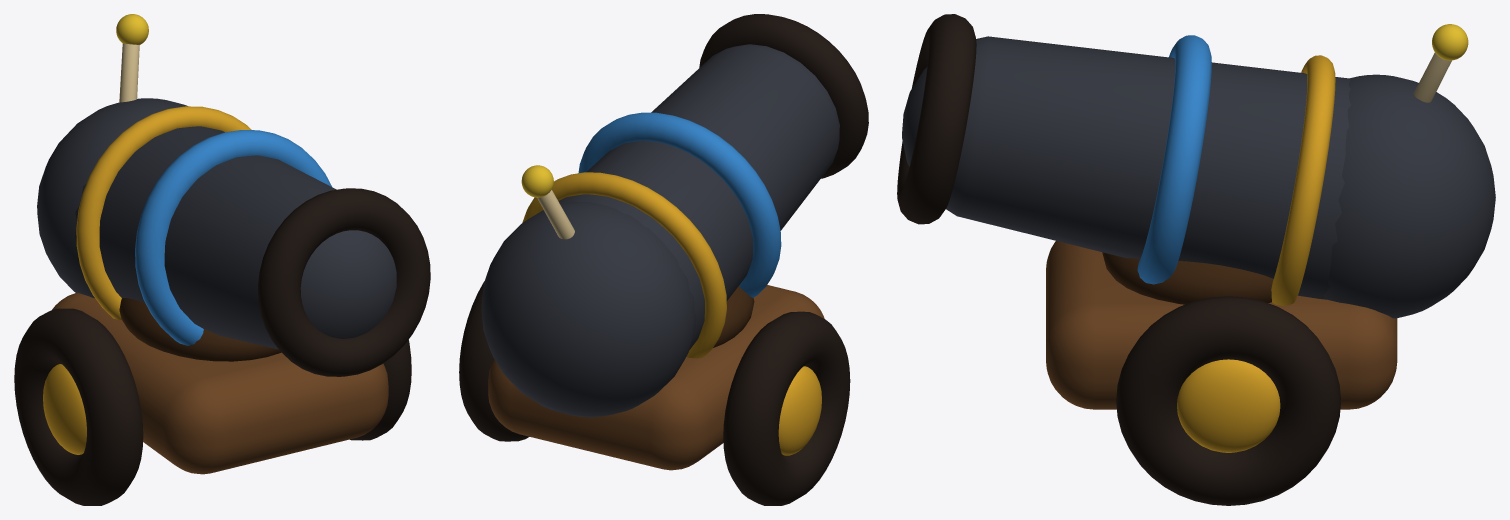
Rendered from bomba.glb.
The picture shows the model from 3 angles, left to right: view 1: azimuth 30°, elevation 25°; view 2: azimuth 150°, elevation 25°; view 3: azimuth 270°, elevation 25°; orthographic projection. The views are drawn at different scales.
Visible parts, largest first — view 1: 1_torreta, 0_base; view 2: 1_torreta, 0_base; view 3: 1_torreta, 0_base.
Part boxes in pixels (box(x1,y1,x2,y2)): 1_torreta: box(37, 14, 430, 376); 0_base: box(14, 292, 411, 505); 1_torreta: box(481, 14, 868, 417); 0_base: box(459, 281, 850, 505); 1_torreta: box(897, 14, 1495, 318); 0_base: box(1046, 241, 1397, 505).
Size of the model in its own units: 0.58 by 0.651 by 0.8515.
